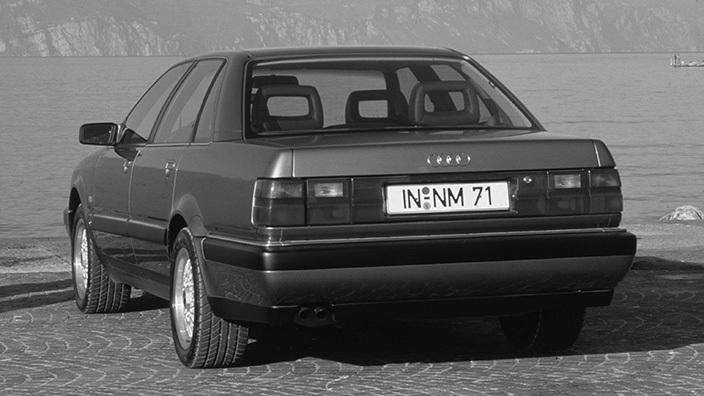car: (33, 36, 660, 383)
